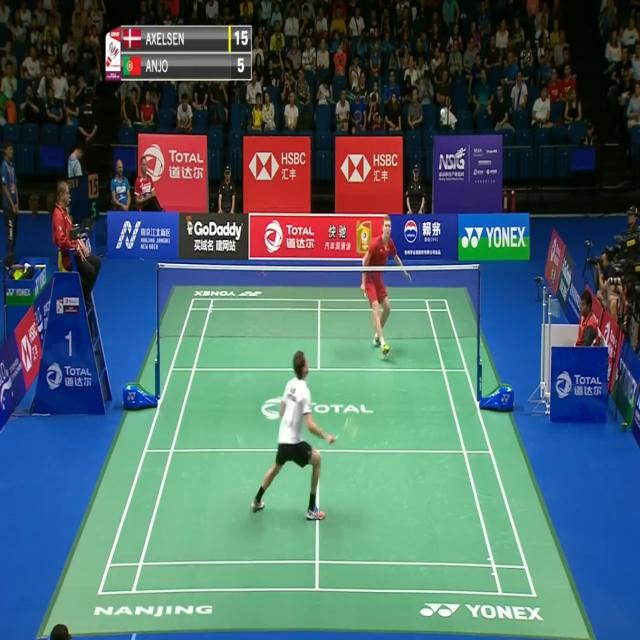Player1: (250, 348, 364, 524)
Player2: (356, 212, 418, 366)
